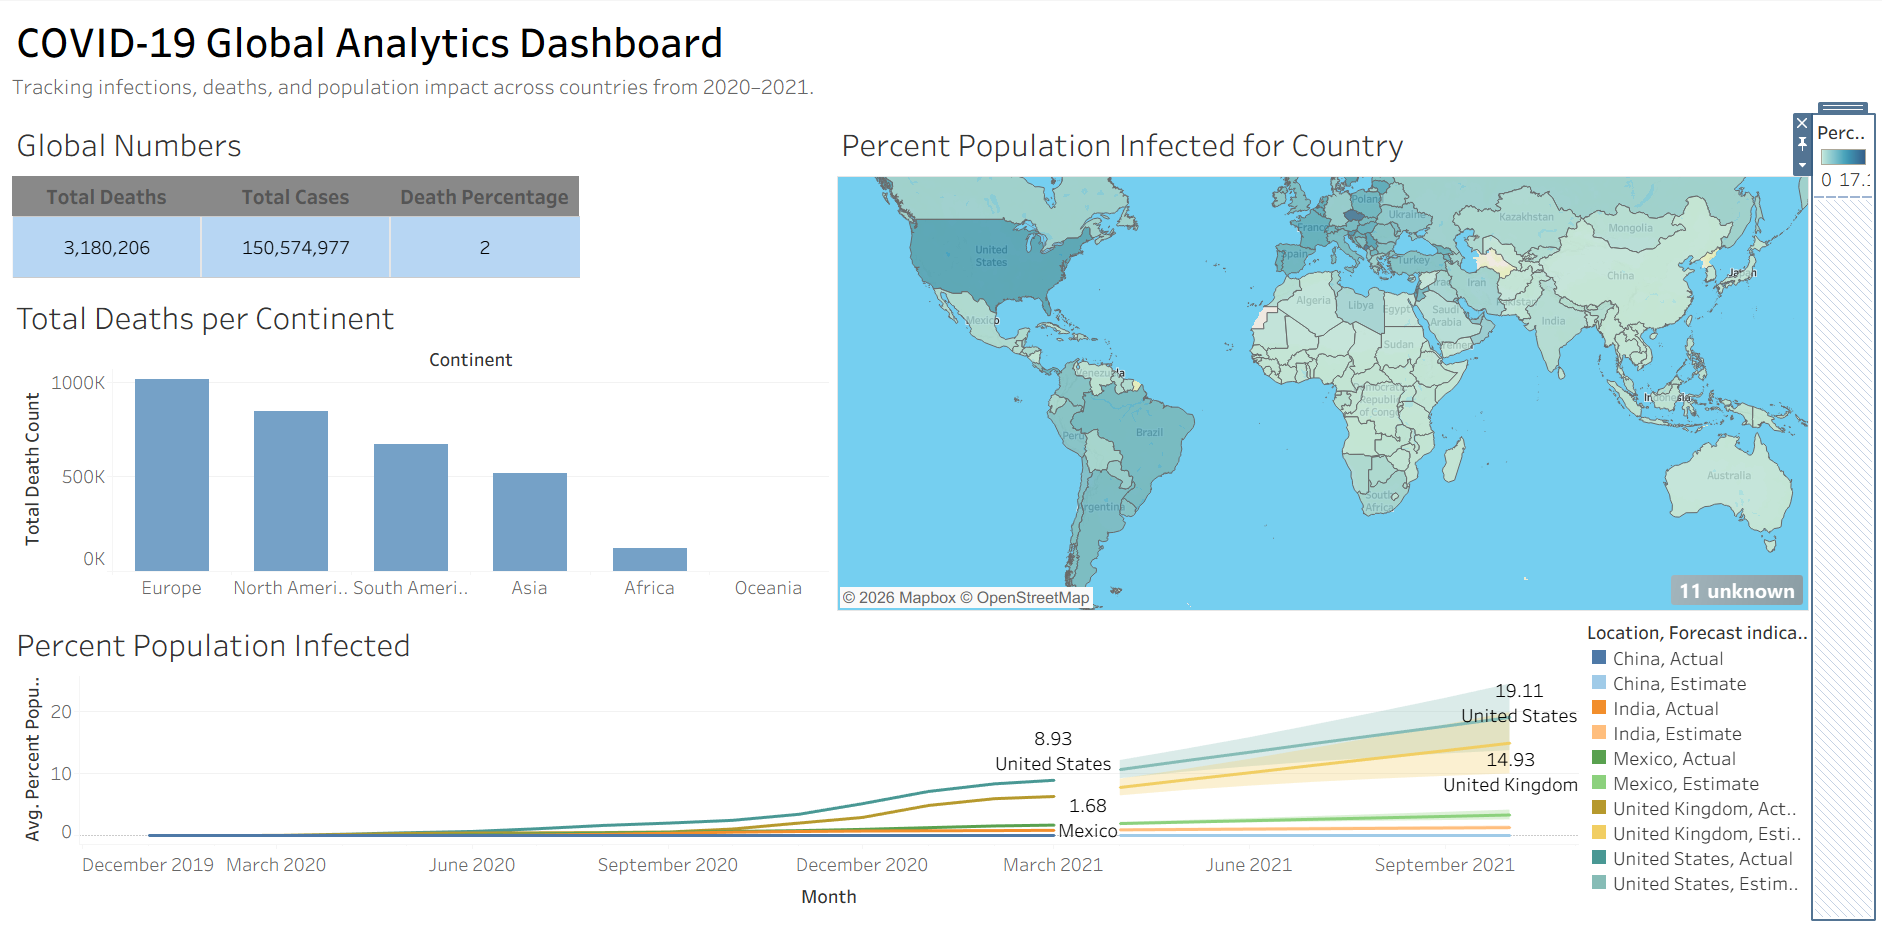

What the dashboard file says about the page in this screenshot:
{"tool":"tableau","page":{"name":"Dashboard 1","canvas":[1000,1000],"units":"permille","ordinal":0},"visuals":[{"type":"title","box":[4.2,8.6,991.5,68]},{"type":"text","box":[4.2,76.7,991.5,46.4]},{"type":"worksheet","title":"Sheet 1","mark":"Automatic","box":[4.2,123.1,438.4,186.8]},{"type":"worksheet","title":"Sheet 3","mark":"Automatic","box":[442.7,123.1,520.7,539.8]},{"type":"legend","title":"Sheet 3","param":"[federated.0i45vfw1qdad3s1aro864109gme0].[sum:PercentPopulationInfected:qk]","box":[963.3,123.1,32.4,87.5]},{"type":"worksheet","title":"Sheet 2","mark":"Automatic","rows":["TotalDeathCount"],"cols":["location"],"box":[4.2,309.9,438.4,353]},{"type":"worksheet","title":"Sheet 4","mark":"Automatic","rows":["PercentPopulationInfected"],"cols":["date"],"box":[4.2,662.9,836.8,328.4]},{"type":"legend","title":"Sheet 4","param":"[federated.0dceto411xjfr313s6svw02owwyf].[none:Location:nk]\n[federated.0dceto411","box":[841.1,662.9,122.3,328.4]}]}

Visuals, with their boxes on the dashboard's canvas, which has no fixed pixel size, in thousandths of its width and height (x1, y1, x2, y2). These are canvas units, not pixel positions in the 1882x926 screenshot, which may show the page scaled, cropped or inside an application window:
title: <region>4, 9, 996, 77</region>
text: <region>4, 77, 996, 123</region>
"Sheet 1" worksheet: <region>4, 123, 443, 310</region>
"Sheet 3" worksheet: <region>443, 123, 963, 663</region>
"Sheet 3" legend: <region>963, 123, 996, 211</region>
"Sheet 2" worksheet: <region>4, 310, 443, 663</region>
"Sheet 4" worksheet: <region>4, 663, 841, 991</region>
"Sheet 4" legend: <region>841, 663, 963, 991</region>
